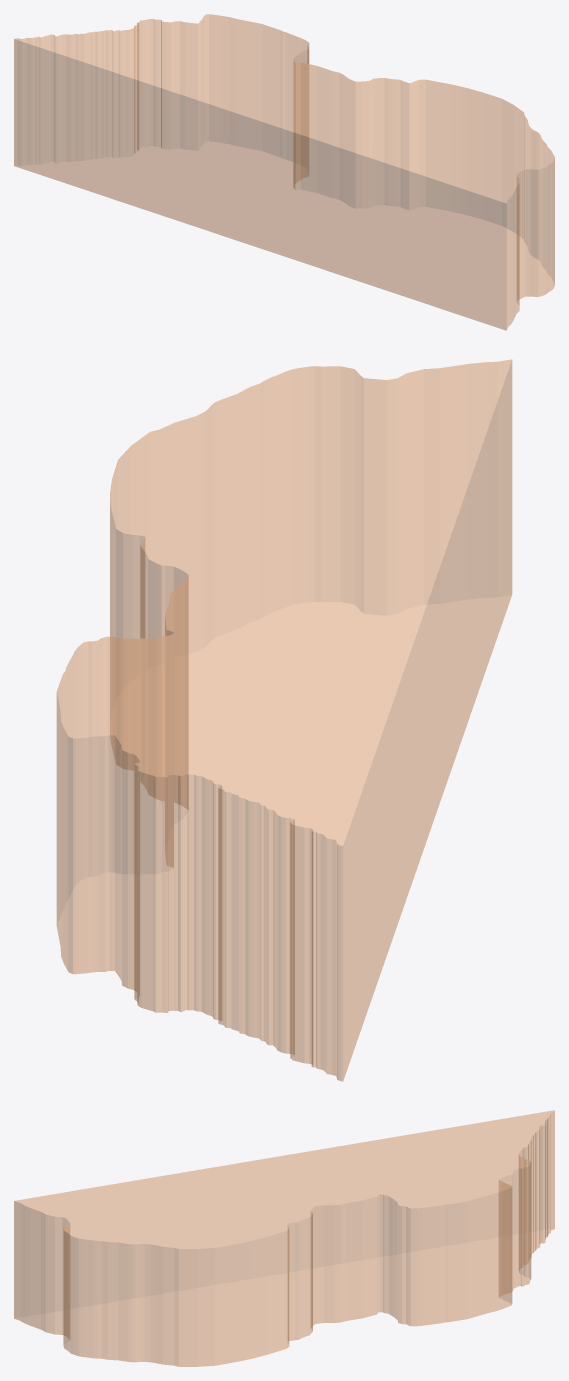
The model's file is LungKwuTan_0.glb.
3 renders of one model, top to bottom at view 1: azimuth 30°, elevation 25°; view 2: azimuth 150°, elevation 25°; view 3: azimuth 270°, elevation 25°, orthographic. The views are drawn at different scales.
Parts seen in each view (by area): view 1: from extrude; view 2: from extrude; view 3: from extrude.
Part boxes in pixels (x1,y1,x2,y2): from extrude: (14, 14, 554, 330); from extrude: (56, 359, 512, 1081); from extrude: (14, 1110, 554, 1366).
Bounding box in the file's own units: 12.63 × 5 × 20.8.
